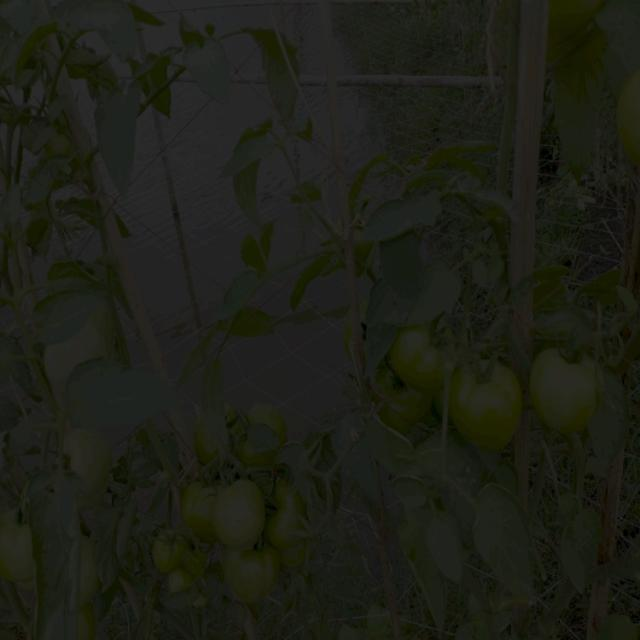tomato: (456, 356, 525, 452), (536, 346, 601, 438), (398, 317, 461, 390), (61, 425, 126, 488), (219, 540, 281, 606), (216, 478, 274, 540), (1, 495, 40, 586), (51, 326, 125, 371), (259, 481, 300, 550), (153, 525, 199, 580), (393, 374, 437, 429), (187, 477, 226, 538), (619, 72, 640, 176), (548, 1, 616, 30), (192, 430, 218, 476), (260, 398, 292, 428)
